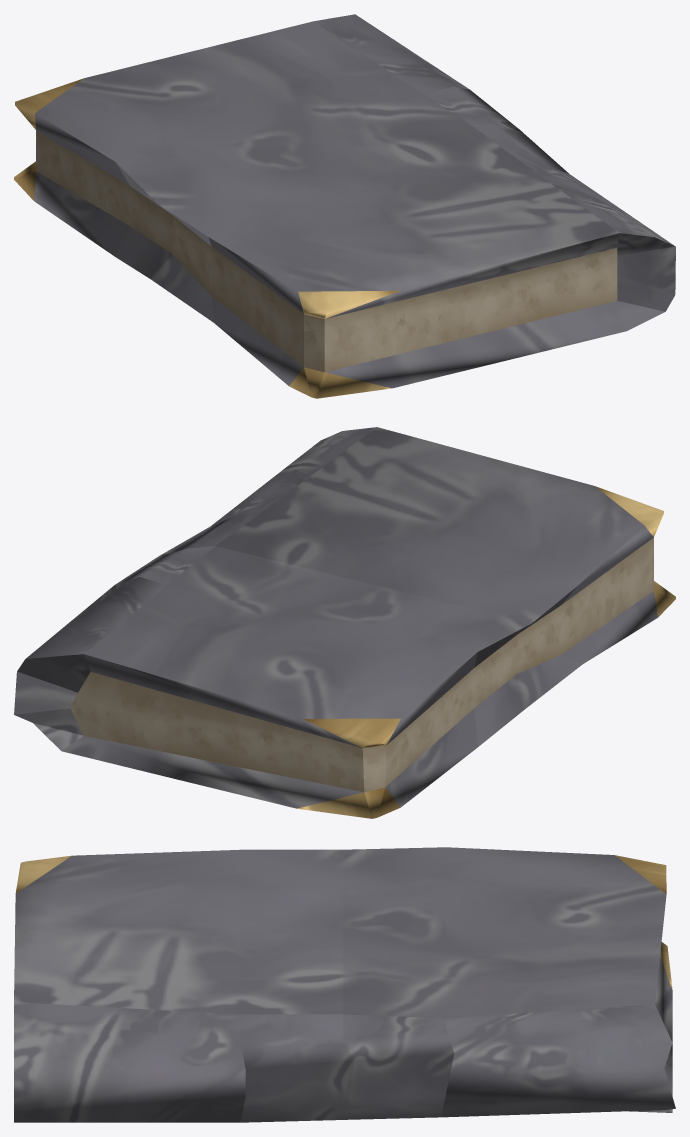
File: Libra_std_Book_2.fbx
3 views of the same model, one above another, from view 1: azimuth 30°, elevation 25°; view 2: azimuth 150°, elevation 25°; view 3: azimuth 270°, elevation 25° (orthographic). The views are drawn at different scales.
Visible parts, largest first — view 1: std_zaun_book3; view 2: std_zaun_book3; view 3: std_zaun_book3.
Part boxes in pixels (<box>): std_zaun_book3: <box>14,14,675,398</box>; std_zaun_book3: <box>14,427,675,818</box>; std_zaun_book3: <box>14,847,675,1122</box>.
Size of the model in its own units: 19.78 by 5.15 by 28.85.
